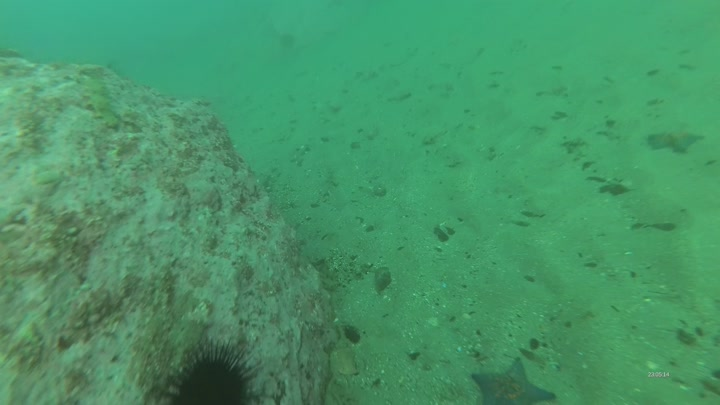echinus: (163, 340, 268, 405)
holothurian: (83, 77, 121, 131)
starfish: (470, 355, 559, 405), (645, 122, 707, 156)
